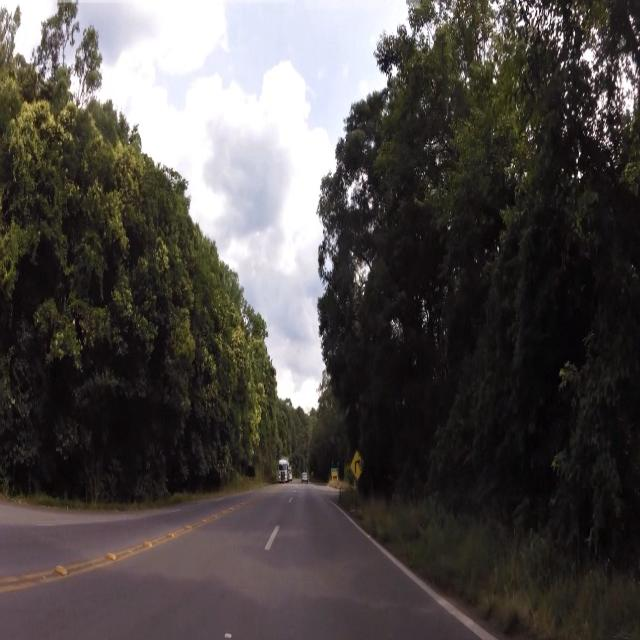A-1b: (351, 454, 366, 484)
